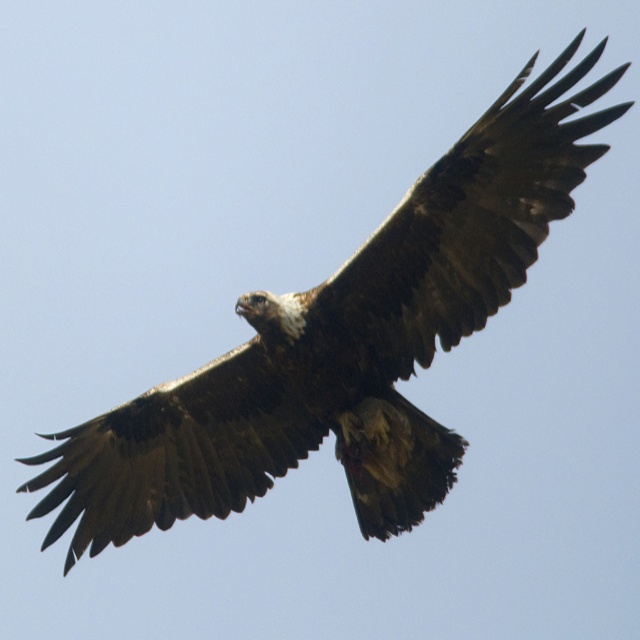Eagle: (11, 23, 636, 587)
